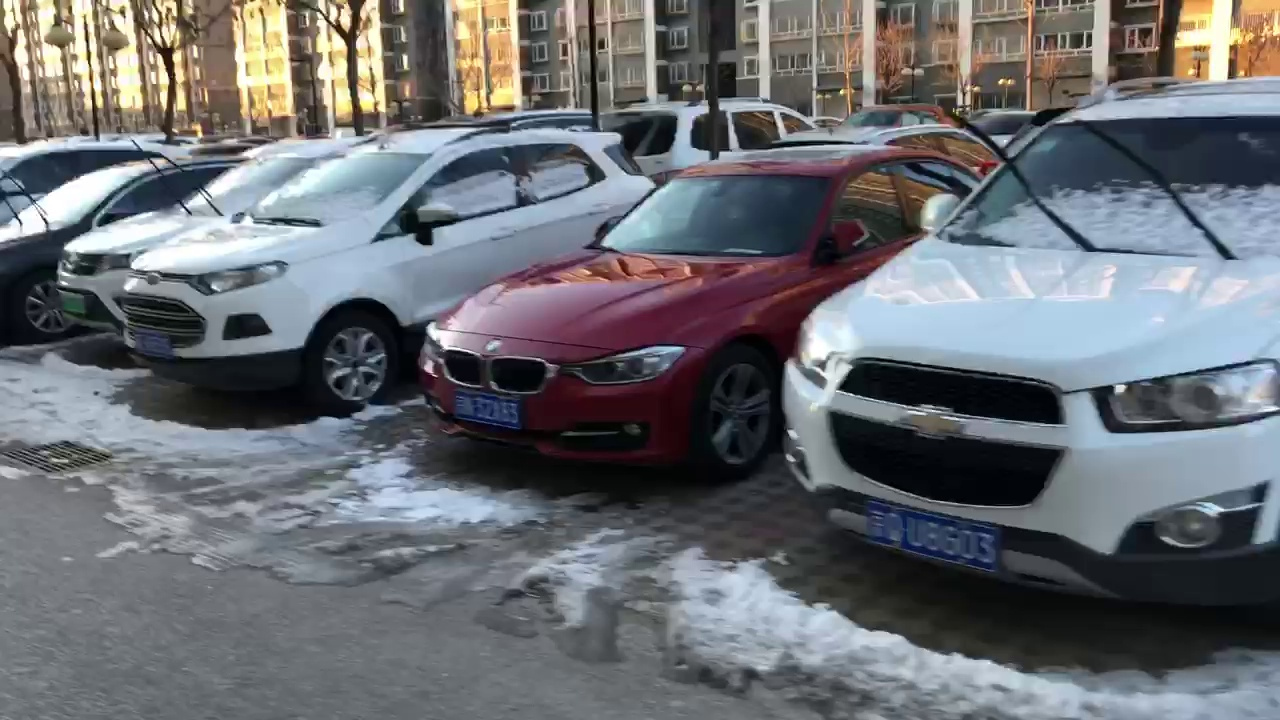plate: (870, 510, 1006, 562), (436, 394, 539, 427), (126, 332, 186, 358)
